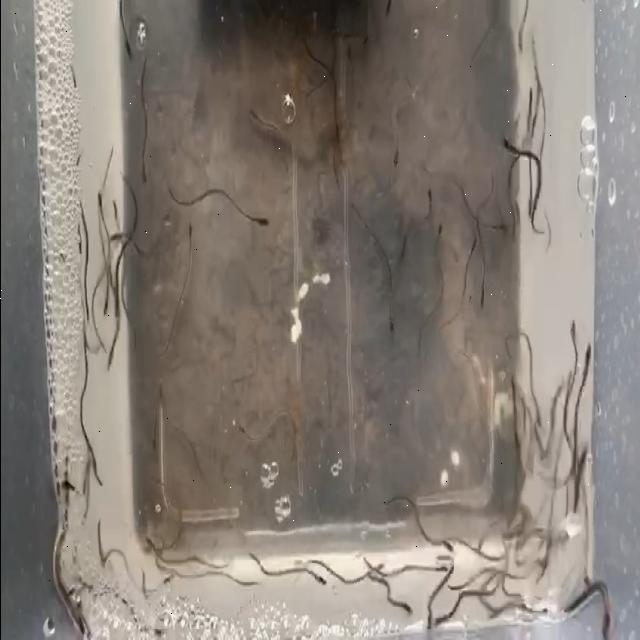inactive_glass_eel: (572, 436, 590, 491), (578, 329, 596, 383), (576, 552, 594, 596), (306, 561, 330, 593), (70, 602, 90, 640), (524, 172, 538, 220), (464, 232, 482, 266), (104, 336, 120, 374), (599, 604, 615, 640), (140, 134, 152, 182), (397, 590, 416, 620), (493, 208, 510, 240), (432, 212, 448, 246), (564, 315, 578, 353), (186, 208, 198, 252), (119, 34, 137, 63), (248, 100, 268, 125), (389, 138, 405, 169), (498, 119, 511, 156), (474, 276, 486, 316), (100, 283, 112, 322), (434, 610, 454, 632), (530, 400, 542, 436), (531, 600, 549, 624), (95, 193, 105, 236), (386, 307, 400, 337), (55, 472, 75, 493), (81, 289, 89, 336), (382, 0, 396, 26), (425, 600, 433, 640), (442, 532, 456, 554), (250, 212, 272, 226), (432, 558, 449, 576), (237, 422, 254, 440), (526, 82, 534, 119), (424, 181, 434, 210), (144, 625, 163, 640), (146, 535, 158, 557)
